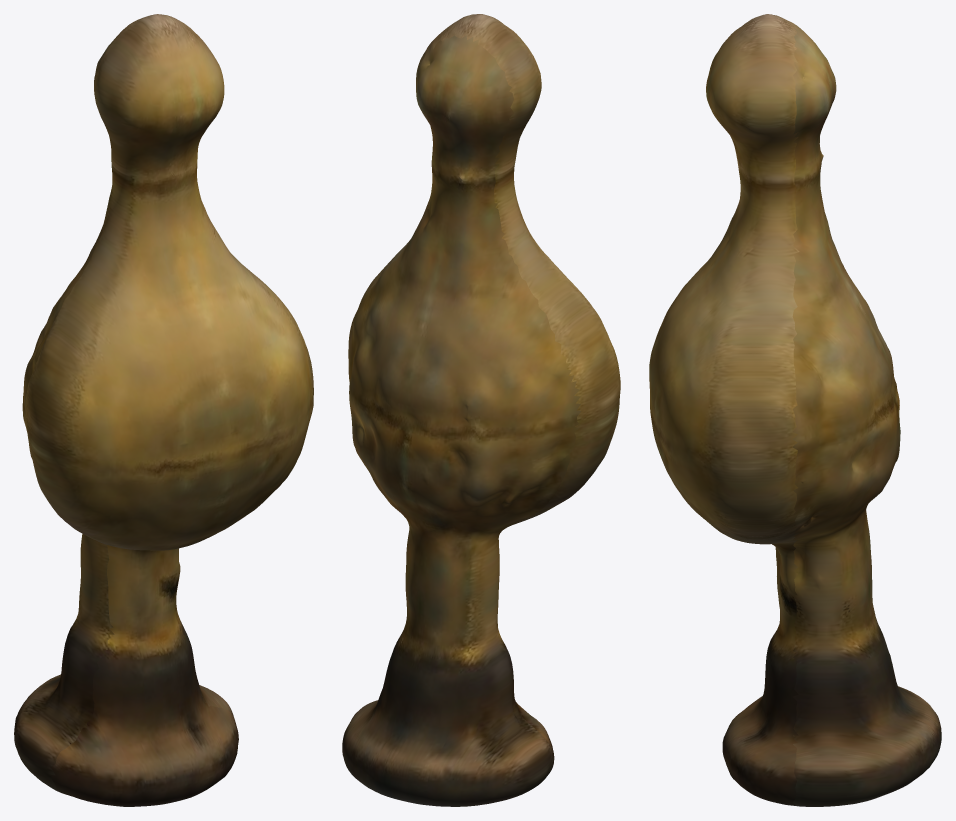
The model's file is kfl-2291.glb.
The picture shows the model from 3 angles, left to right: view 1: azimuth 30°, elevation 25°; view 2: azimuth 150°, elevation 25°; view 3: azimuth 270°, elevation 25°; orthographic projection. The views are drawn at different scales.
Visible parts, largest first — view 1: geometry_0; view 2: geometry_0; view 3: geometry_0.
Part boxes in pixels (<box>): geometry_0: <box>14,14,313,806</box>; geometry_0: <box>342,14,620,806</box>; geometry_0: <box>649,14,941,806</box>.
Bounding box in the file's own units: 0.3508 × 0.9963 × 0.347.
1 material, 1 textured.
